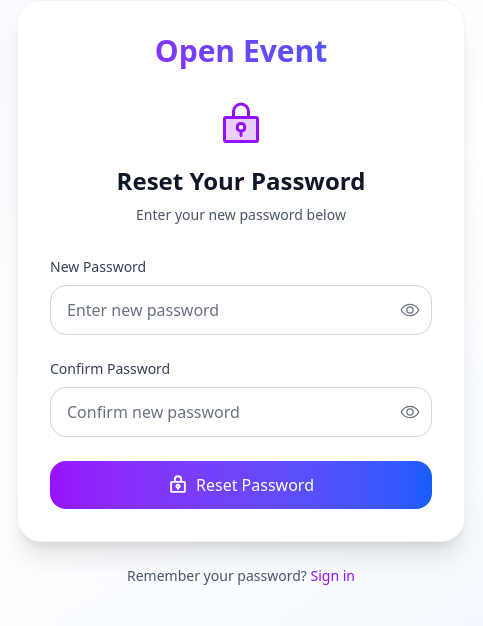
ResetPassword › Password Strength Indicator › should show requirements when typing password
Enter a valid-looking password to show requirements
Type "SecurePass123!" into the password field labelled "New Password" at (241, 310), box x1=50 y1=285 x2=432 y2=335
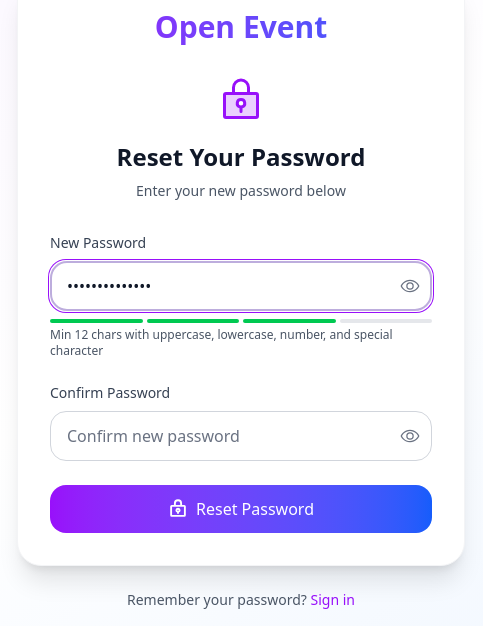
Check: the text "Min 12 chars" is shown, box x1=50 y1=326 x2=393 y2=359
